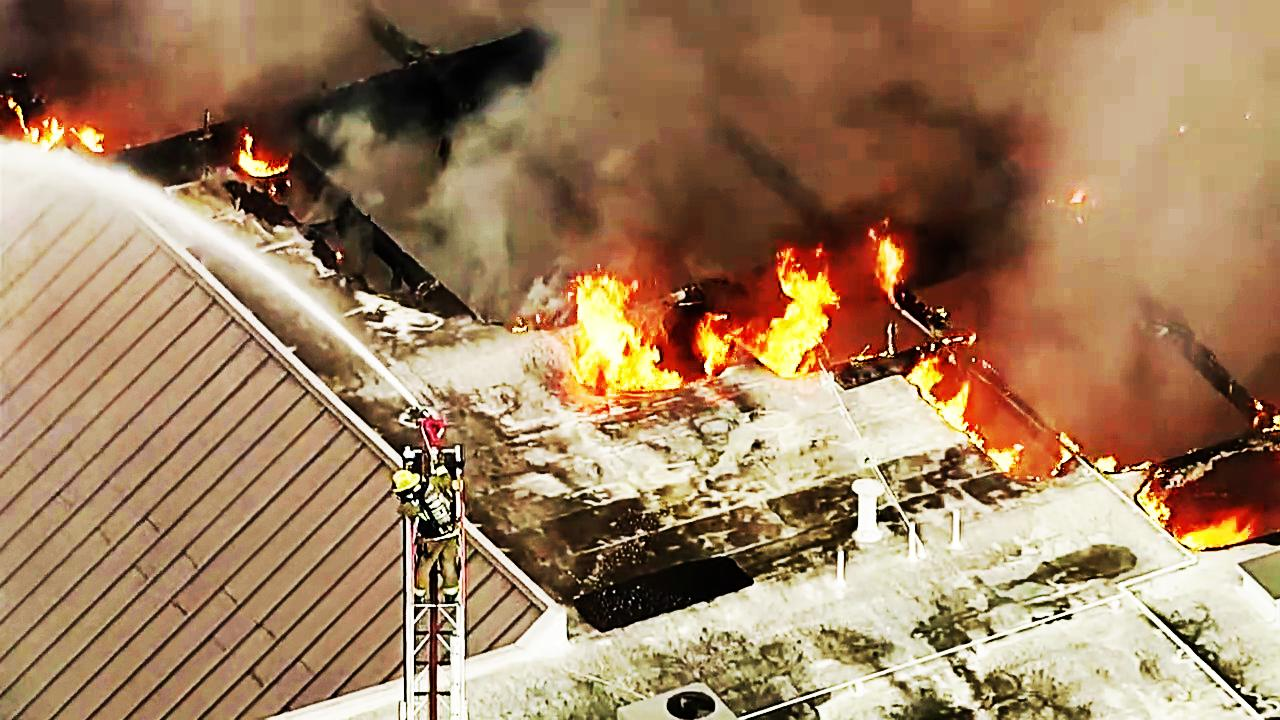fire: (694, 202, 844, 375), (549, 272, 665, 407)
smoke: (533, 0, 1190, 180)
